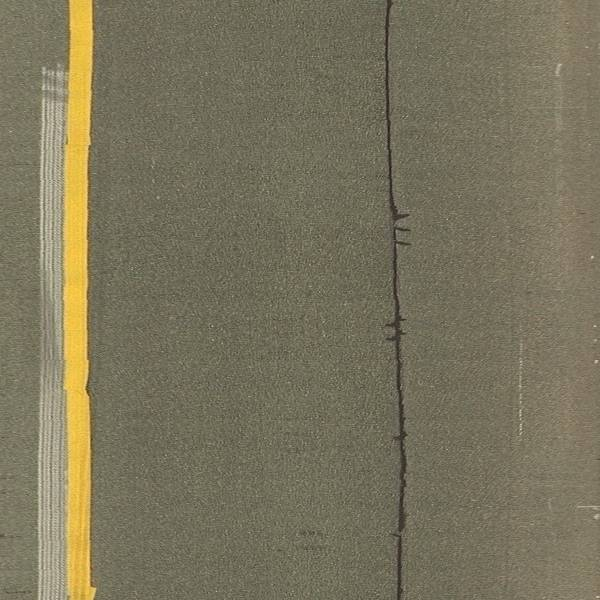road_damage: (375, 1, 423, 600)
